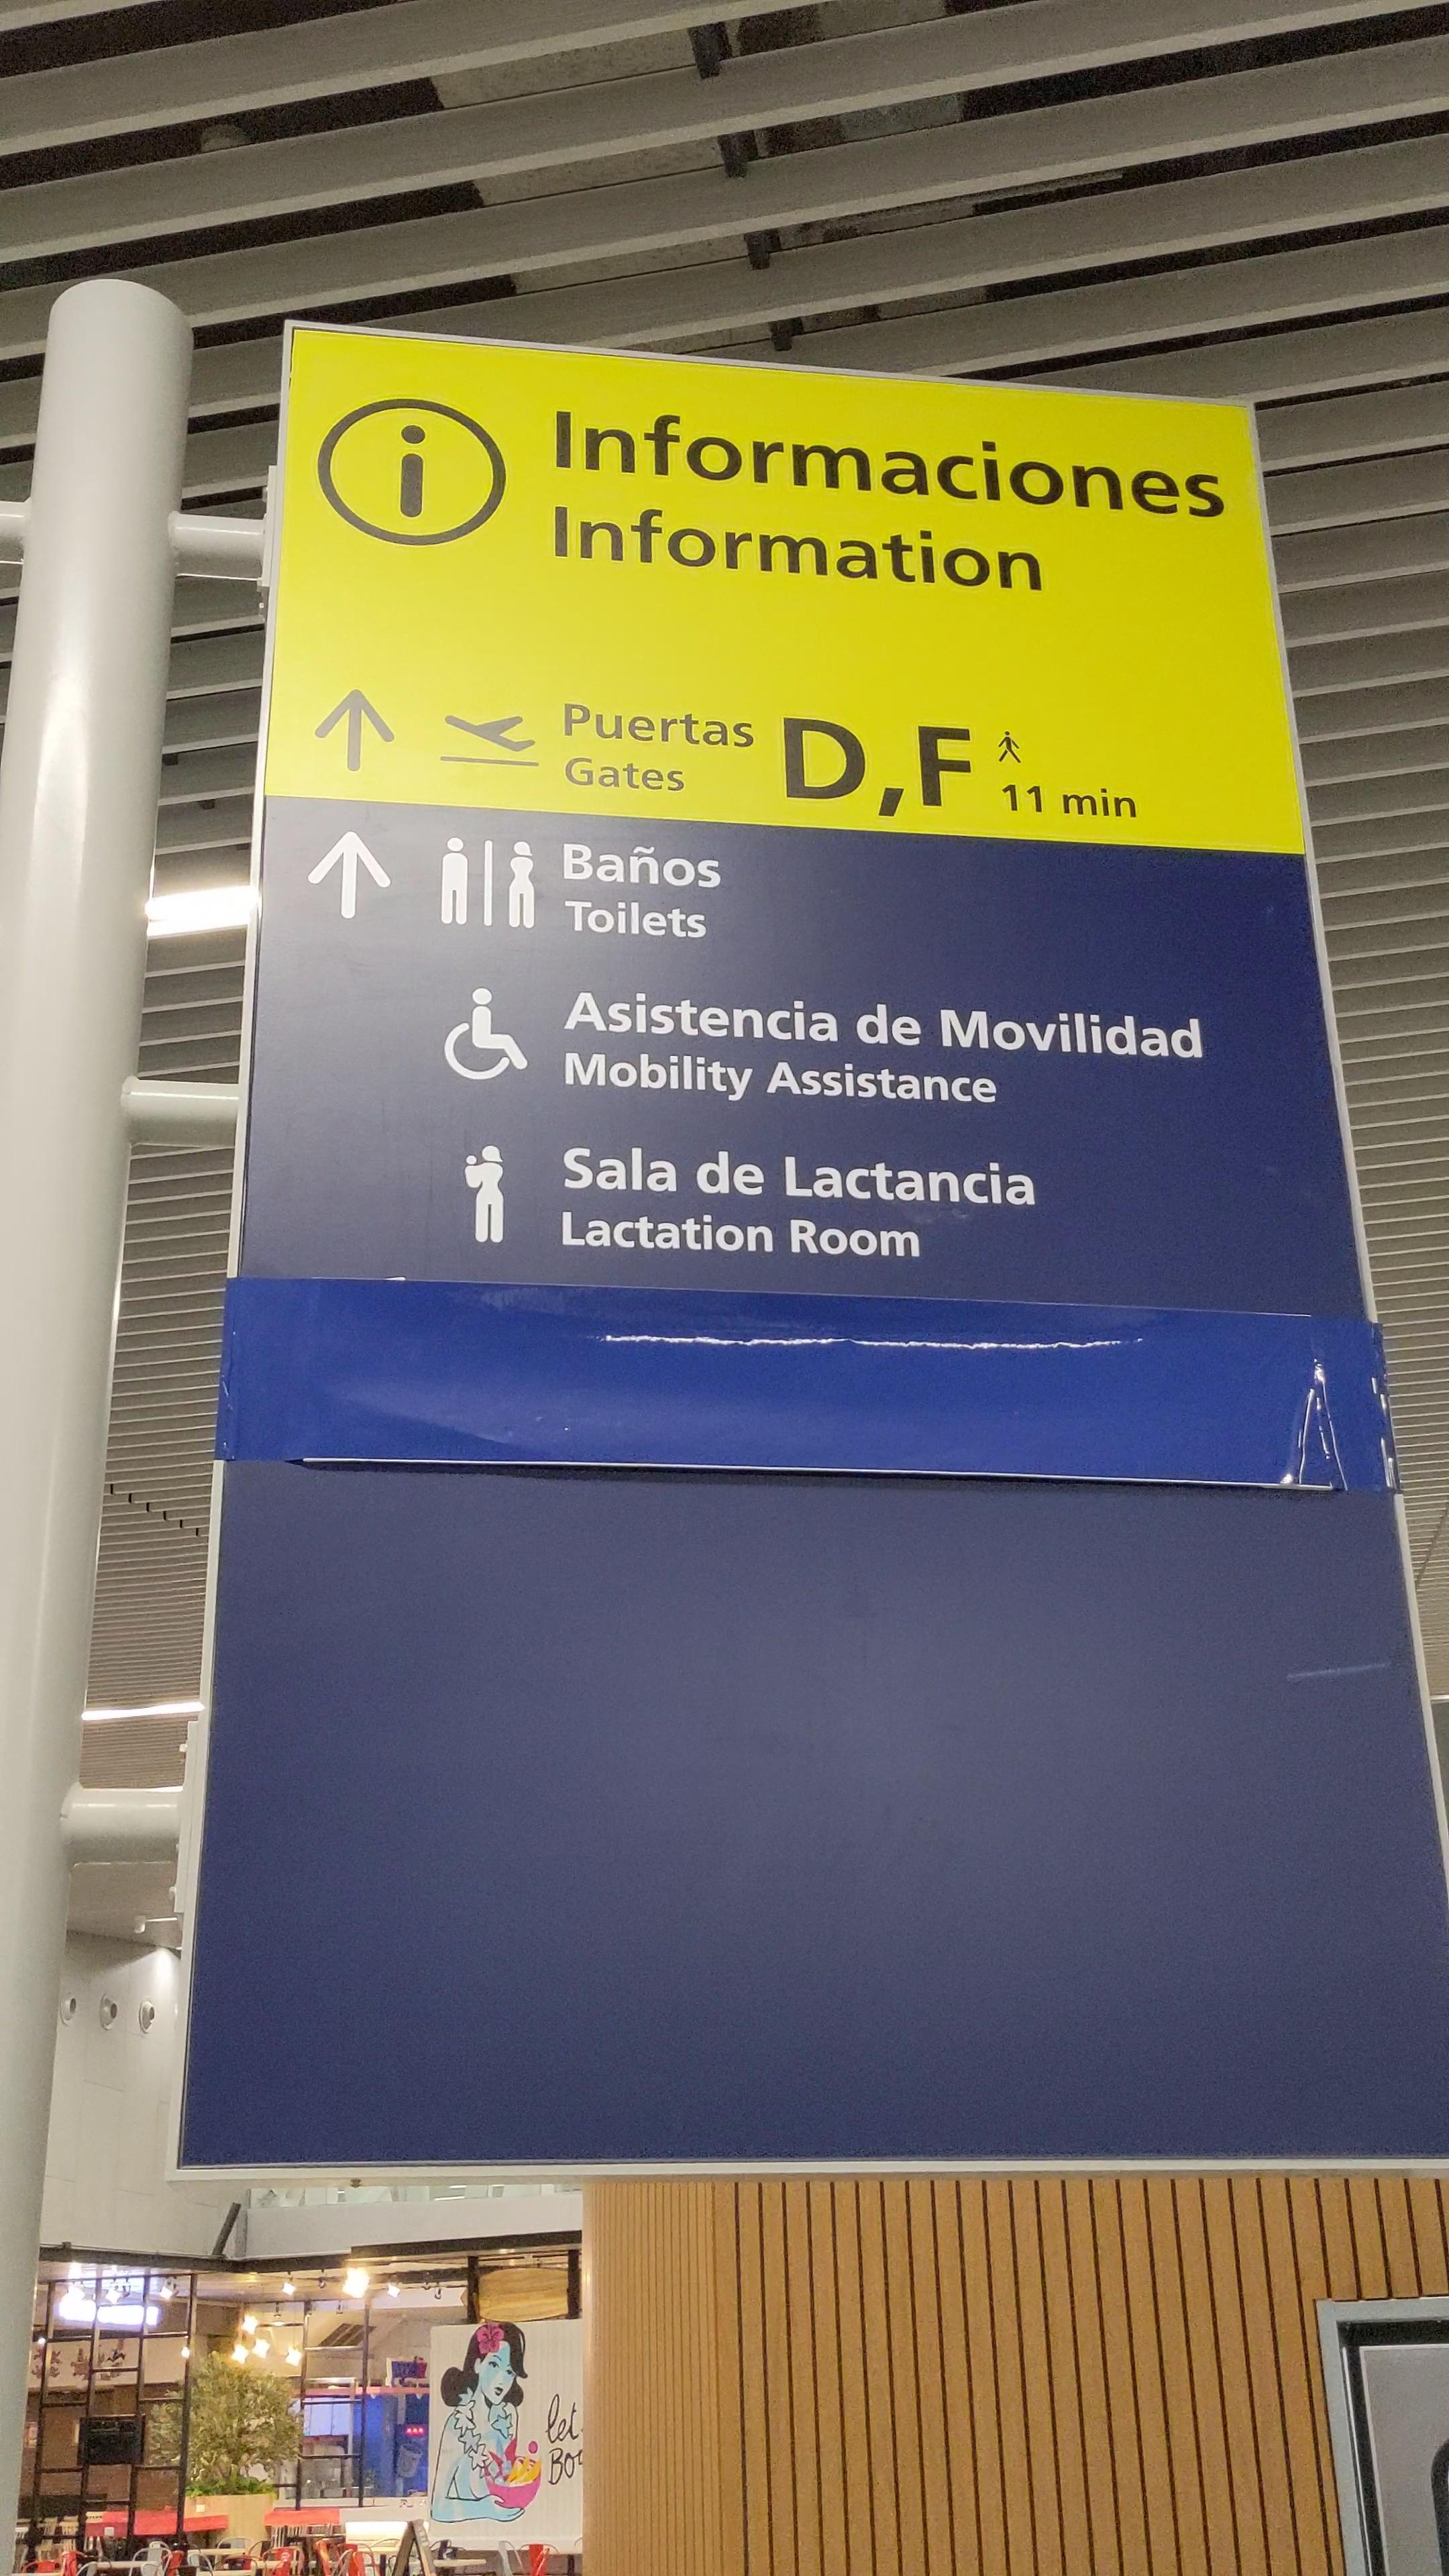airplane symbol: (441, 706, 538, 757)
bathrooms: (433, 833, 541, 936)
handicapped symbol: (439, 984, 534, 1086)
thin up arrow: (304, 828, 395, 925), (311, 683, 400, 777)
